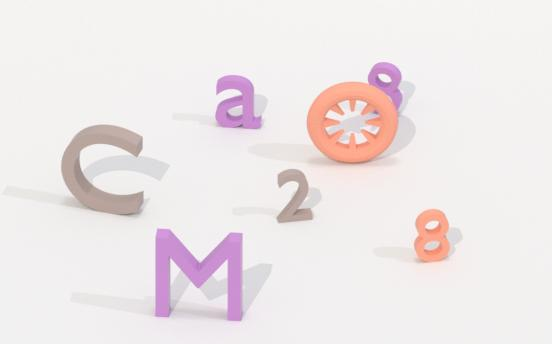2: (271, 167, 318, 227)
8: (409, 206, 454, 265), (364, 61, 406, 114)
M-hoa: (146, 229, 249, 324)
a: (213, 73, 265, 133)
c: (55, 120, 153, 220)
tron: (301, 83, 402, 166)
